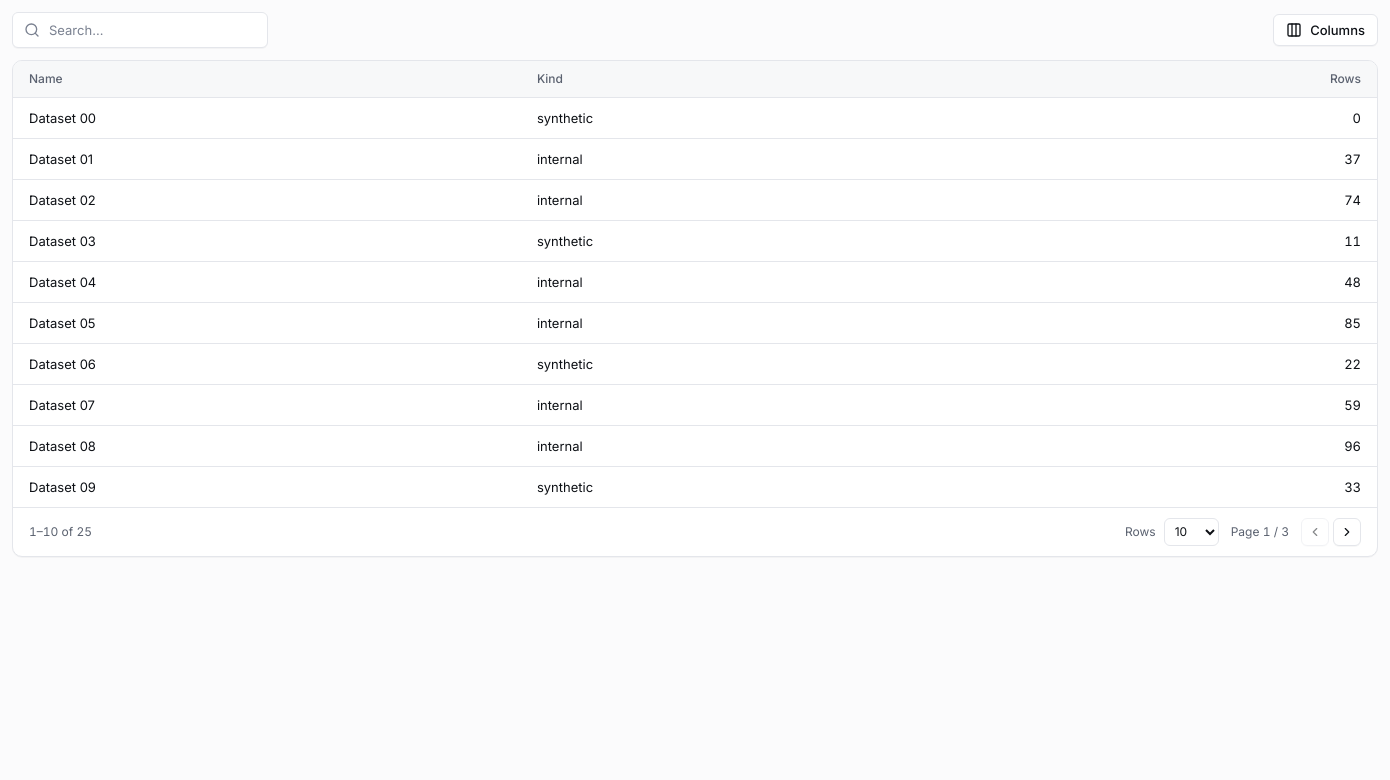
it: DataTable › shows a 'no matches' state when the search excludes everything
In the field named "Search table": point(140, 30) [12,12,268,48], type "zzz-no-match"
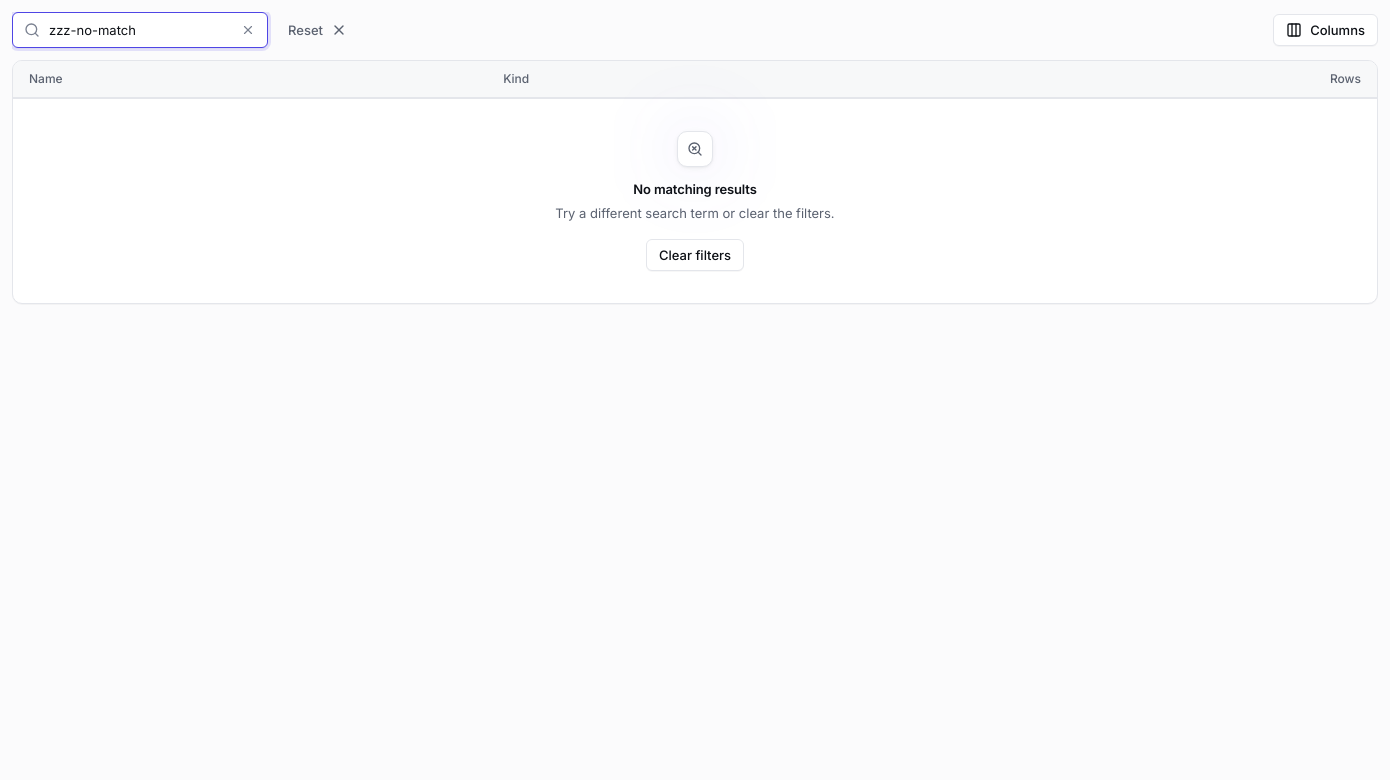
Result: the heading "No matching results" is shown at [633,180,757,196]
